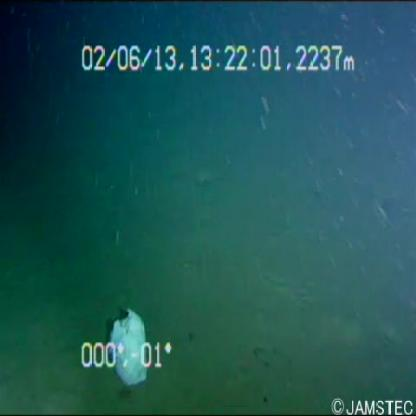Rác: (94, 296, 164, 387)
